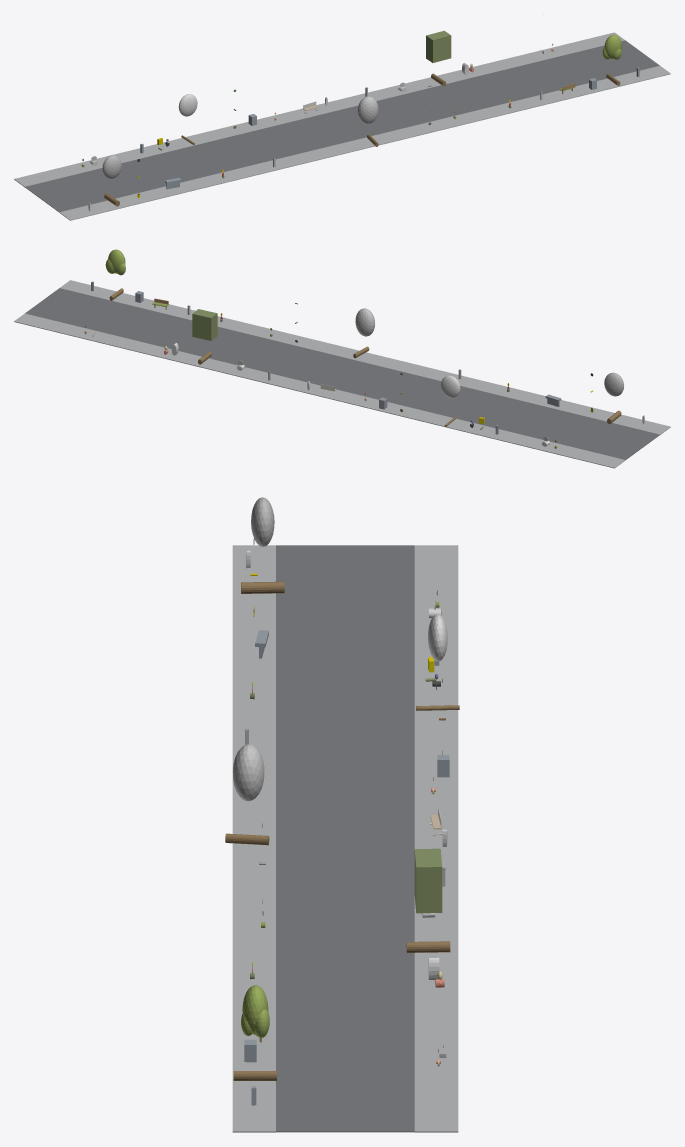
3 renders of one model, top to bottom at view 1: azimuth 30°, elevation 25°; view 2: azimuth 150°, elevation 25°; view 3: azimuth 270°, elevation 25°, orthographic. The views are drawn at different scales.
Visible parts, largest first — view 1: road_slab, sidewalk_left, sidewalk_right, inst_0015, inst_0014, inst_0016, inst_0012, inst_0013; view 2: road_slab, sidewalk_right, sidewalk_left, inst_0015, inst_0014, inst_0016, inst_0012, inst_0013; view 3: road_slab, sidewalk_right, sidewalk_left, inst_0015, inst_0014, inst_0016, inst_0012, inst_0013.
Part boxes in pixels (box(x1,y1,x2,y2)): road_slab: box(25, 40, 659, 212); sidewalk_left: box(59, 66, 670, 220); sidewalk_right: box(14, 32, 624, 187); inst_0015: box(426, 30, 451, 86); inst_0014: box(357, 96, 378, 146); inst_0016: box(602, 34, 621, 85); inst_0012: box(102, 155, 121, 206); inst_0013: box(178, 94, 197, 144); road_slab: box(25, 288, 659, 460); sidewalk_right: box(14, 313, 625, 468); sidewalk_left: box(60, 280, 670, 434); inst_0015: box(192, 309, 217, 364); inst_0014: box(353, 308, 374, 358); inst_0016: box(105, 249, 125, 300); inst_0012: box(604, 372, 623, 424); inst_0013: box(440, 375, 460, 426); road_slab: box(276, 545, 414, 1132); sidewalk_right: box(414, 545, 458, 1132); sidewalk_left: box(232, 545, 275, 1132); inst_0015: box(406, 848, 450, 952); inst_0014: box(225, 744, 269, 845); inst_0016: box(233, 985, 276, 1080); inst_0012: box(241, 497, 284, 593); inst_0013: box(416, 614, 459, 710).
Size of the model in its own units: 80 by 6.08 by 13.51.
